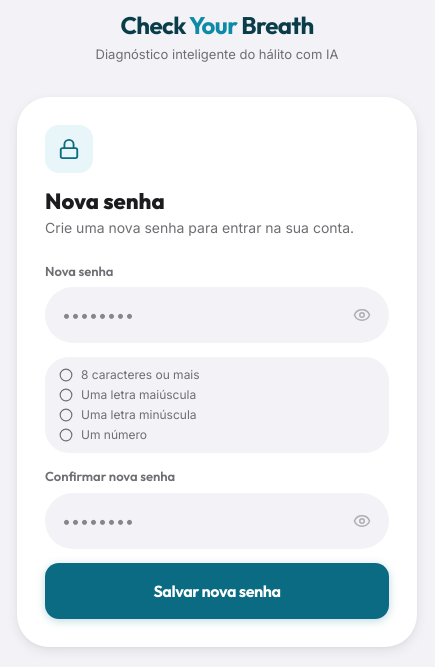
Test: recuperação de senha › mostra sucesso só depois do 204 e manda token e senha
Type "NovaSenha123" into the password field labelled "Nova senha" at (217, 315), box x1=45 y1=287 x2=389 y2=343
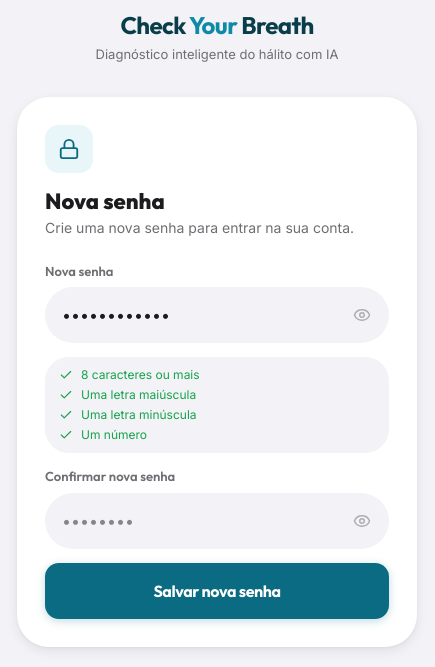
Type "NovaSenha123" into the password field labelled "Confirmar nova senha" at (217, 521), box x1=45 y1=493 x2=389 y2=549
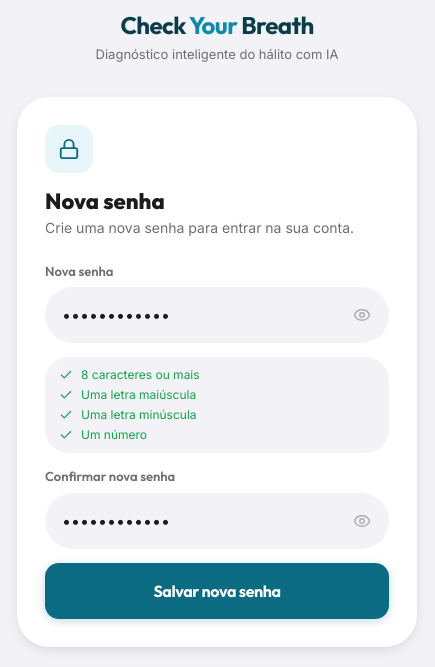
Click the button "Salvar nova senha" at (217, 591), box x1=45 y1=563 x2=389 y2=619
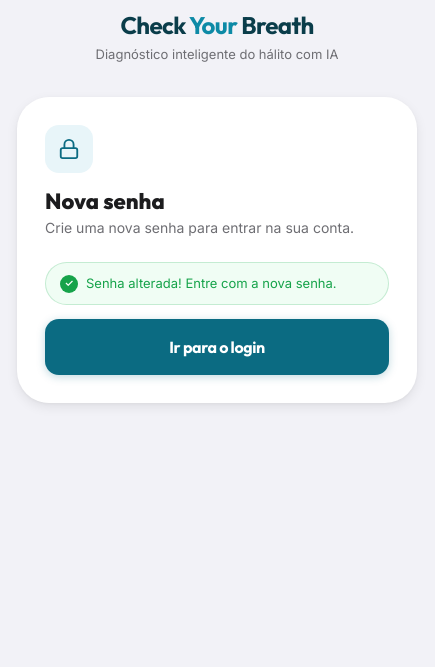
Now the text "Senha alterada! Entre com a nova senha." is shown, box x1=86 y1=274 x2=337 y2=293
